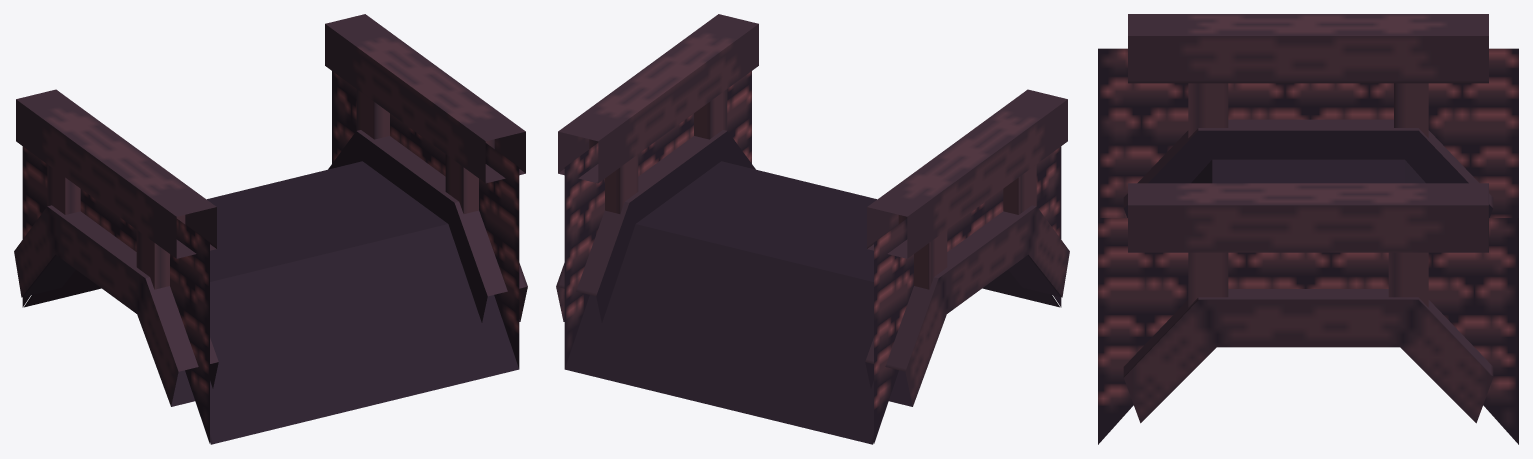
The model's file is bridge_stone_small.fbx.
The picture shows the model from 3 angles, left to right: view 1: azimuth 30°, elevation 25°; view 2: azimuth 150°, elevation 25°; view 3: azimuth 270°, elevation 25°; orthographic projection. The views are drawn at different scales.
Parts seen in each view (by area): view 1: Plane035; view 2: Plane035; view 3: Plane035.
Boxes of the visible parts, x1,y1,x2,y2 form: Plane035: (14,14,527,444); Plane035: (556,14,1069,444); Plane035: (1098,14,1518,444).
Bounding box in the file's own units: 88.98 × 82.68 × 54.33.
1 material, 1 textured.
